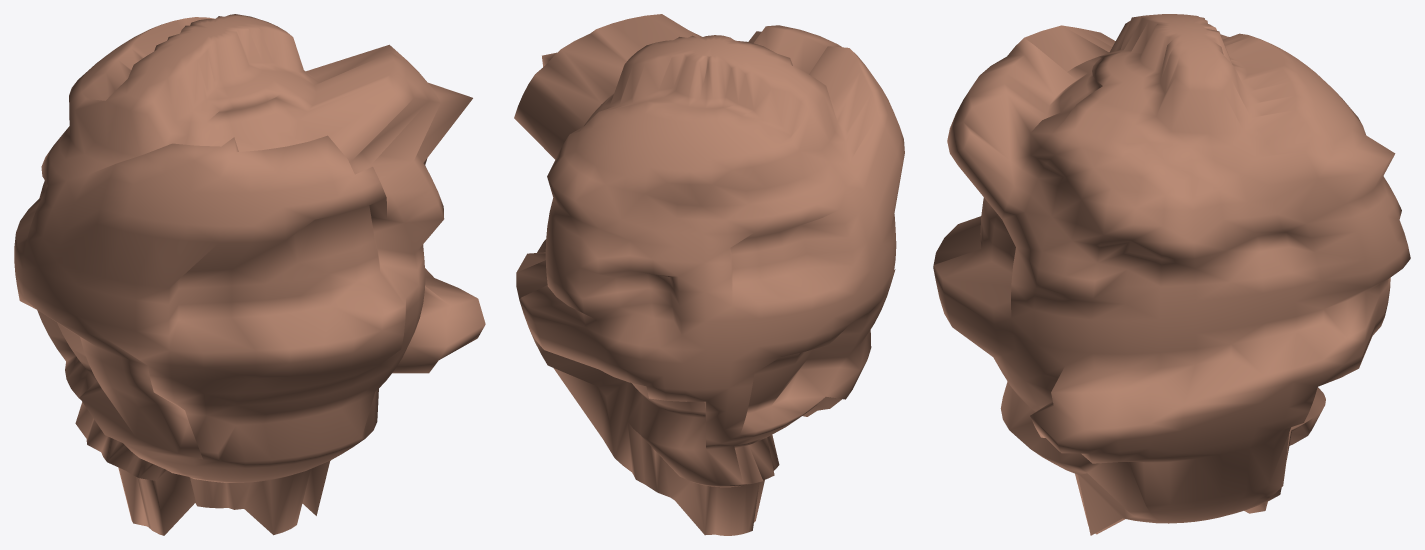
File: rock.fbx
3 views of the same model, side by side, from view 1: azimuth 30°, elevation 25°; view 2: azimuth 150°, elevation 25°; view 3: azimuth 270°, elevation 25° (orthographic). The views are drawn at different scales.
Visible parts, largest first — view 1: pSphere1; view 2: pSphere1; view 3: pSphere1.
Part boxes in pixels (x1,y1,x2,y2): pSphere1: (14,14,485,535); pSphere1: (514,14,904,535); pSphere1: (933,14,1410,535).
Size of the model in its own units: 6.64 by 7.95 by 6.79.
